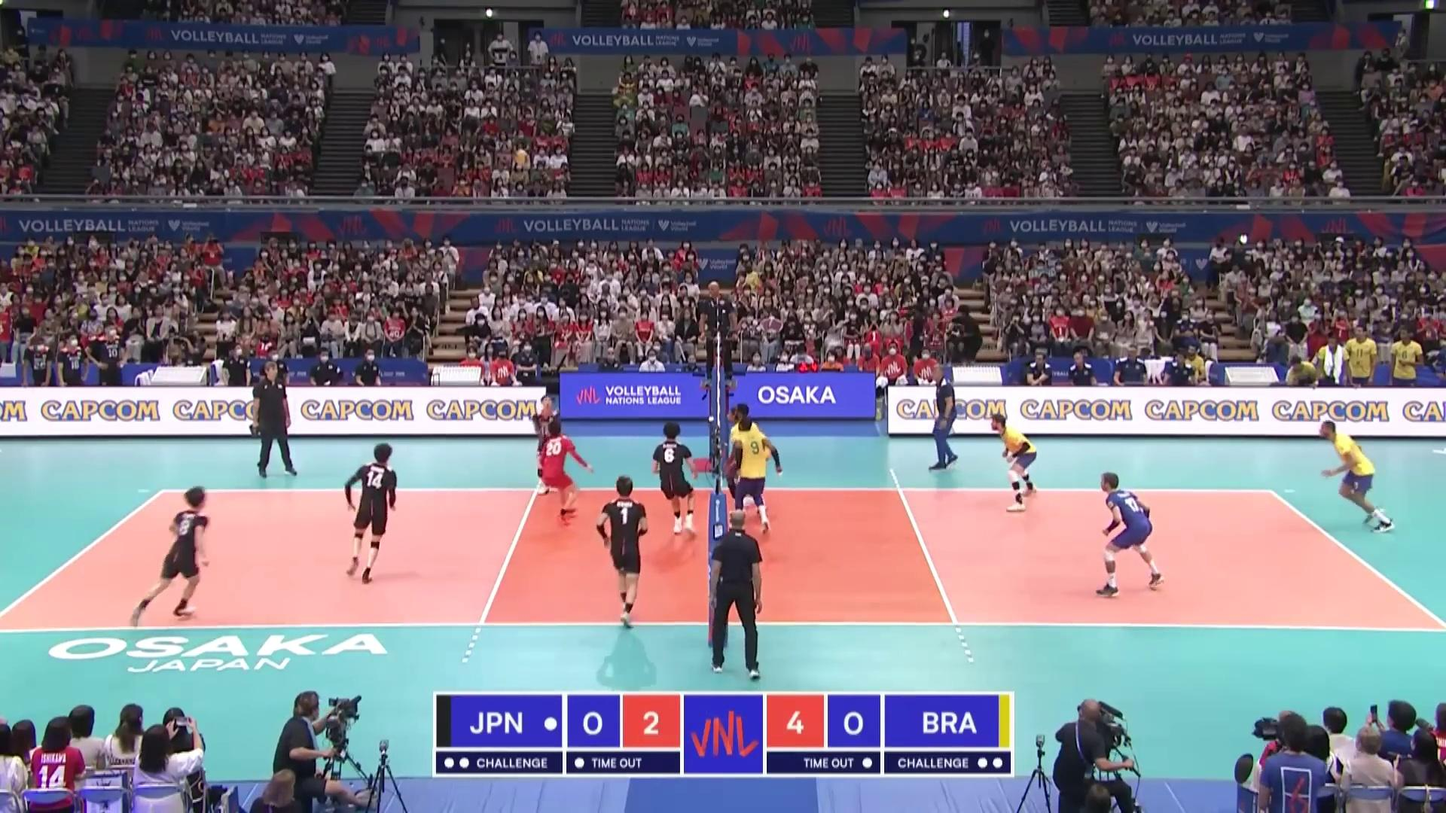player: (129, 486, 216, 624), (1318, 421, 1396, 533), (1093, 473, 1164, 595), (335, 443, 398, 580), (590, 476, 646, 628), (651, 419, 702, 537), (733, 419, 782, 535), (540, 421, 589, 526), (991, 412, 1041, 512), (730, 405, 771, 518), (727, 407, 767, 511), (529, 393, 562, 498)
refree: (705, 511, 762, 675), (703, 283, 737, 391)
